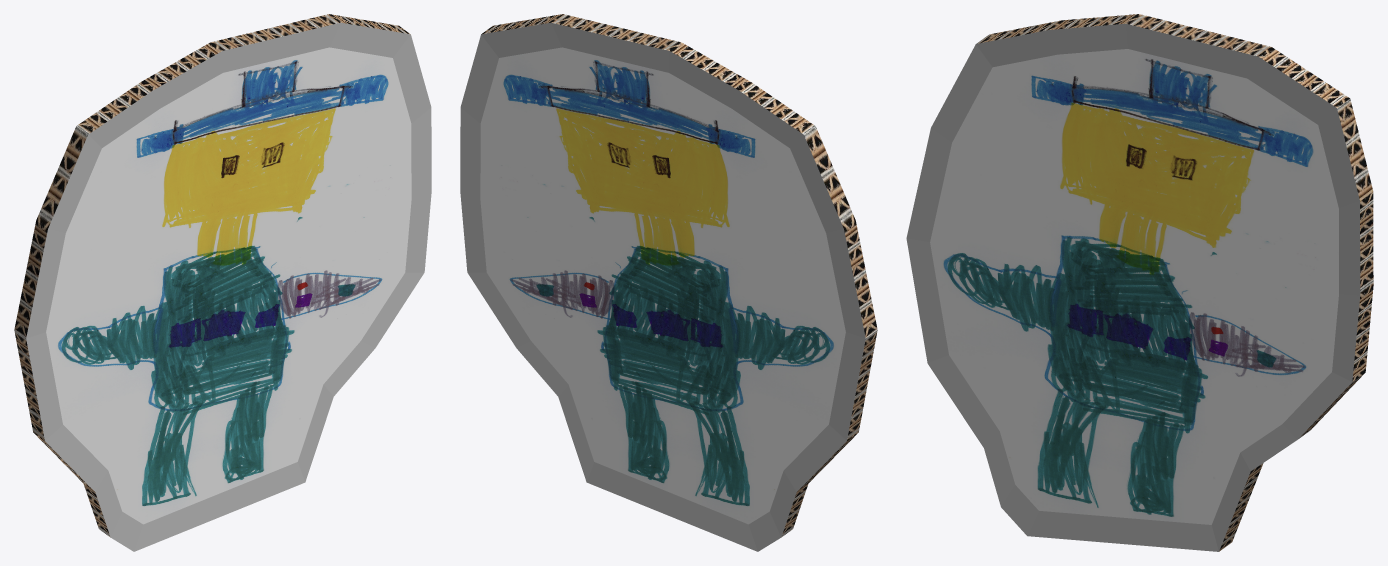
File: RoboPate.fbx
The picture shows the model from 3 angles, left to right: view 1: azimuth 30°, elevation 25°; view 2: azimuth 150°, elevation 25°; view 3: azimuth 330°, elevation 25°; orthographic projection. The views are drawn at different scales.
Visible parts, largest first — view 1: RoboPate; view 2: RoboPate; view 3: RoboPate.
Boxes of the visible parts, <box> form: RoboPate: <box>14,14,431,551</box>; RoboPate: <box>460,14,877,551</box>; RoboPate: <box>906,14,1373,551</box>.
Size of the model in its own units: 192 by 217 by 9.72.
